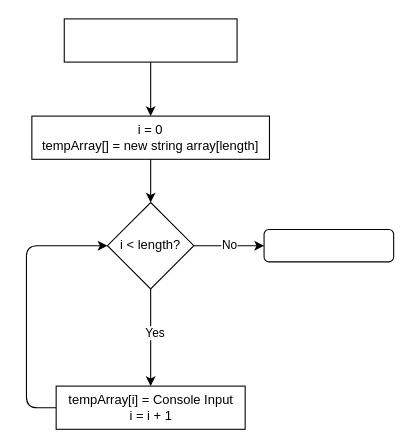
The diagram is 413 pixels wide and 448 high, and some of its shapes have lost their labels. Each missing label, with the centre of its shape:
"Return tempArray" goes at point 328,245.
"string array[] method InputStringArray(length)" goes at point 150,40.
